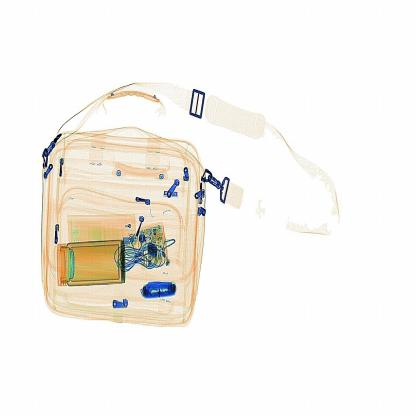scissors: (142, 281, 181, 301)
